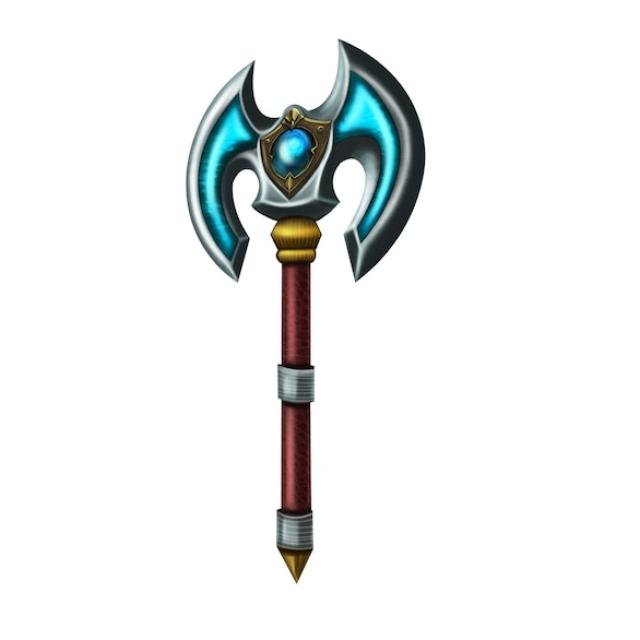Gun: (144, 49, 426, 613)
